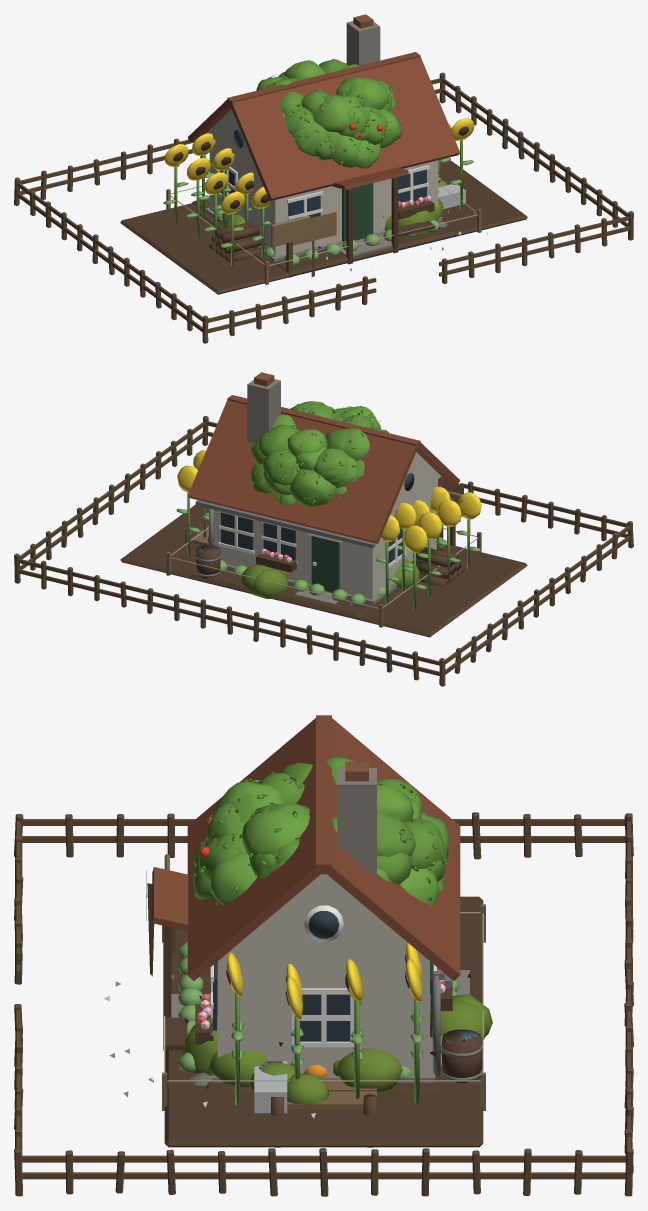
Rendered from village.glb.
3 renders of one model, top to bottom at view 1: azimuth 30°, elevation 25°; view 2: azimuth 150°, elevation 25°; view 3: azimuth 270°, elevation 25°, orthographic. The views are drawn at different scales.
Parts seen in each view (by area): view 1: farmhouse, pasture, wheat_field, sunflowers, tree_apple, tree_c, veg_patch_sq, plot_sale, tree_a, plot_empty, tree_b, pasture_shelter; view 2: farmhouse, pasture, wheat_field, sunflowers, tree_a, tree_b, veg_patch_sq, tree_c, plot_sale, plot_empty, tree_apple; view 3: farmhouse, pasture, wheat_field, plot_sale, tree_apple, sunflowers, tree_a, tree_c, veg_patch_sq, tree_b, dock, plot_empty (+2 smaller).
Part boxes in pixels (x1=…): farmhouse: x1=187, y1=14, x2=460, y2=264; pasture: x1=14, y1=72, x2=633, y2=343; wheat_field: x1=120, y1=160, x2=527, y2=294; sunflowers: x1=163, y1=118, x2=474, y2=266; tree_apple: x1=280, y1=66, x2=396, y2=168; tree_c: x1=274, y1=64, x2=401, y2=167; veg_patch_sq: x1=192, y1=198, x2=456, y2=275; plot_sale: x1=223, y1=180, x2=487, y2=276; tree_a: x1=264, y1=60, x2=380, y2=149; plot_empty: x1=166, y1=186, x2=481, y2=284; tree_b: x1=256, y1=59, x2=391, y2=113; pasture_shelter: x1=438, y1=184, x2=465, y2=209; farmhouse: x1=187, y1=372, x2=463, y2=605; pasture: x1=14, y1=415, x2=633, y2=686; wheat_field: x1=120, y1=504, x2=527, y2=637; sunflowers: x1=176, y1=450, x2=481, y2=610; tree_a: x1=250, y1=404, x2=388, y2=505; tree_b: x1=251, y1=404, x2=364, y2=507; veg_patch_sq: x1=191, y1=537, x2=455, y2=618; tree_c: x1=252, y1=404, x2=389, y2=495; plot_sale: x1=191, y1=480, x2=463, y2=598; plot_empty: x1=166, y1=490, x2=481, y2=627; tree_apple: x1=290, y1=401, x2=382, y2=482; farmhouse: x1=152, y1=715, x2=482, y2=1082; pasture: x1=14, y1=812, x2=633, y2=1196; wheat_field: x1=164, y1=896, x2=483, y2=1147; plot_sale: x1=104, y1=870, x2=492, y2=1118; tree_apple: x1=192, y1=762, x2=379, y2=899; sunflowers: x1=226, y1=943, x2=423, y2=1106; tree_a: x1=216, y1=756, x2=446, y2=905; tree_c: x1=193, y1=765, x2=445, y2=905; veg_patch_sq: x1=165, y1=941, x2=482, y2=1085; tree_b: x1=224, y1=778, x2=453, y2=893; dock: x1=271, y1=1078, x2=376, y2=1147; plot_empty: x1=162, y1=854, x2=485, y2=1110.
Size of the model in its own units: 6.07 by 2.68 by 4.67.
